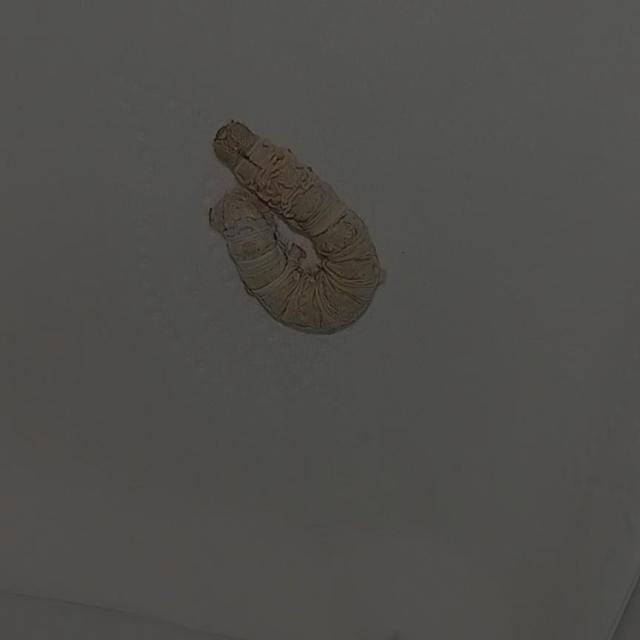Healthy: (199, 116, 394, 337)
